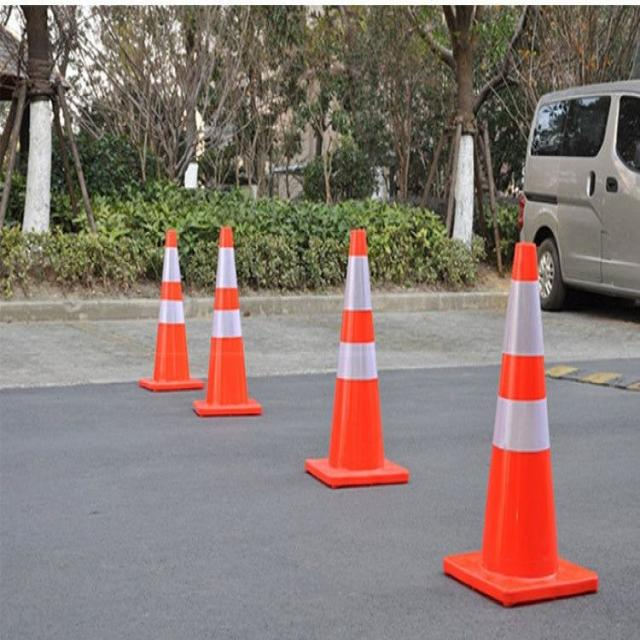car: (516, 73, 639, 320)
reflective_cone: (442, 236, 600, 601), (300, 224, 410, 486), (191, 222, 265, 417), (136, 228, 204, 390)
